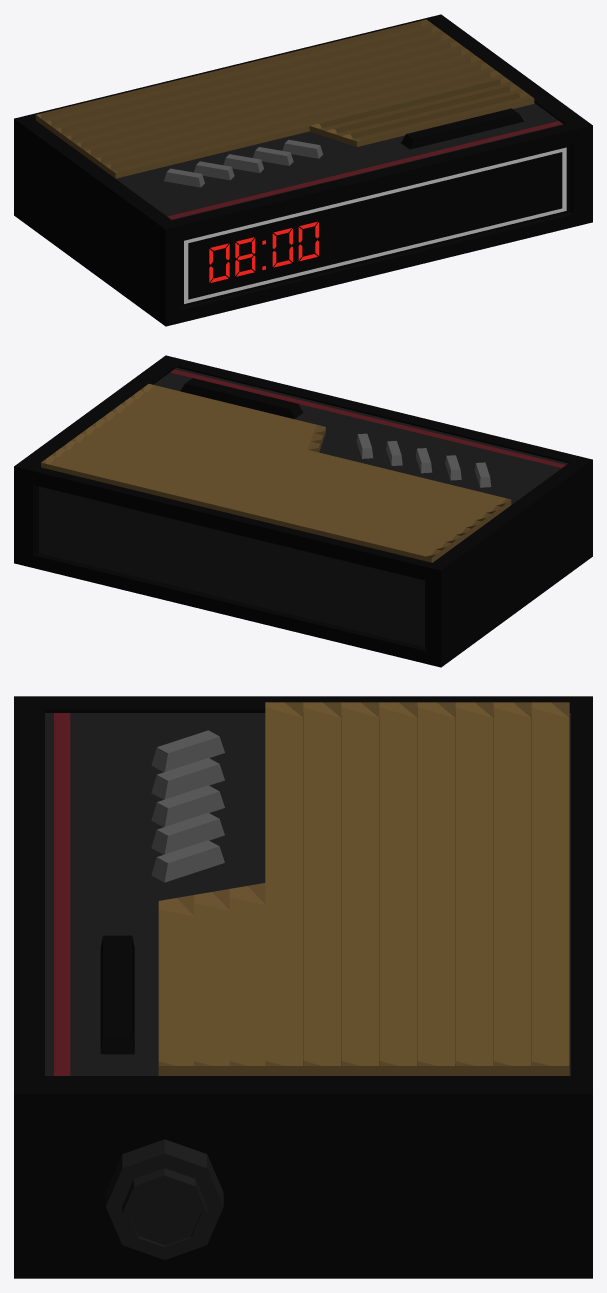
Rendered from alarm_clock.glb.
3 views of the same model, one above another, from view 1: azimuth 30°, elevation 25°; view 2: azimuth 150°, elevation 25°; view 3: azimuth 270°, elevation 25° (orthographic). The views are drawn at different scales.
Parts seen in each view (by area): view 1: Cube.002_2, Cube.004_3, Text_5; view 2: Cube.002_2, Cube.004_3; view 3: Cube.002_2, Cube.004_3.
Part boxes in pixels (x1,y1,x2,y2): Cube.002_2: [14, 14, 592, 326]; Cube.004_3: [164, 139, 322, 187]; Text_5: [209, 221, 318, 282]; Cube.002_2: [14, 355, 592, 667]; Cube.004_3: [356, 433, 491, 487]; Cube.002_2: [14, 696, 592, 1278]; Cube.004_3: [151, 730, 224, 882].
Size of the model in its own units: 0.8811 by 0.1952 by 0.5143.
